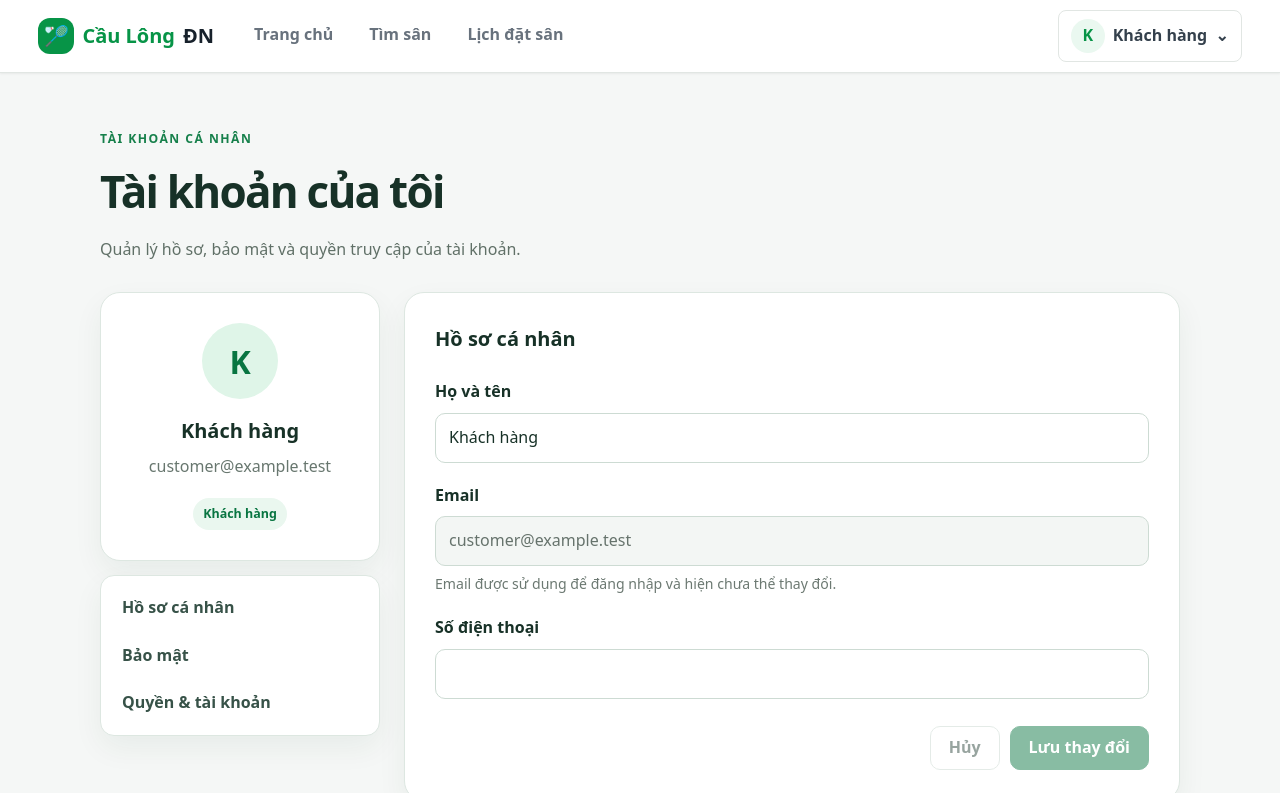
Test: failed authoritative recovery preserves last-known-good snapshot
The image size is (1280, 793).
Replace the text in the field labelled "Họ và tên" with "Unsaved Name". click: [792, 438]
box: [435,413,1149,463]
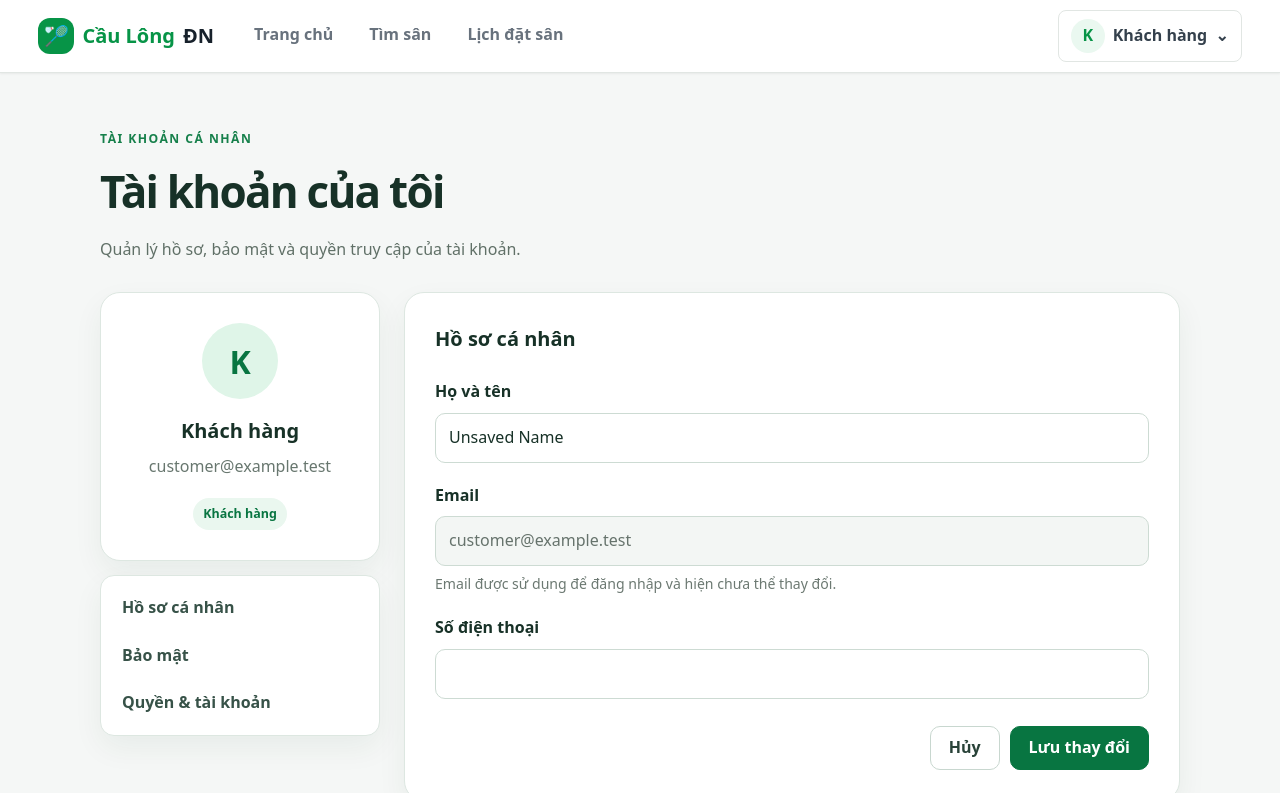
Click the button "Lưu thay đổi". click: [1079, 748]
box: [1010,726,1149,770]
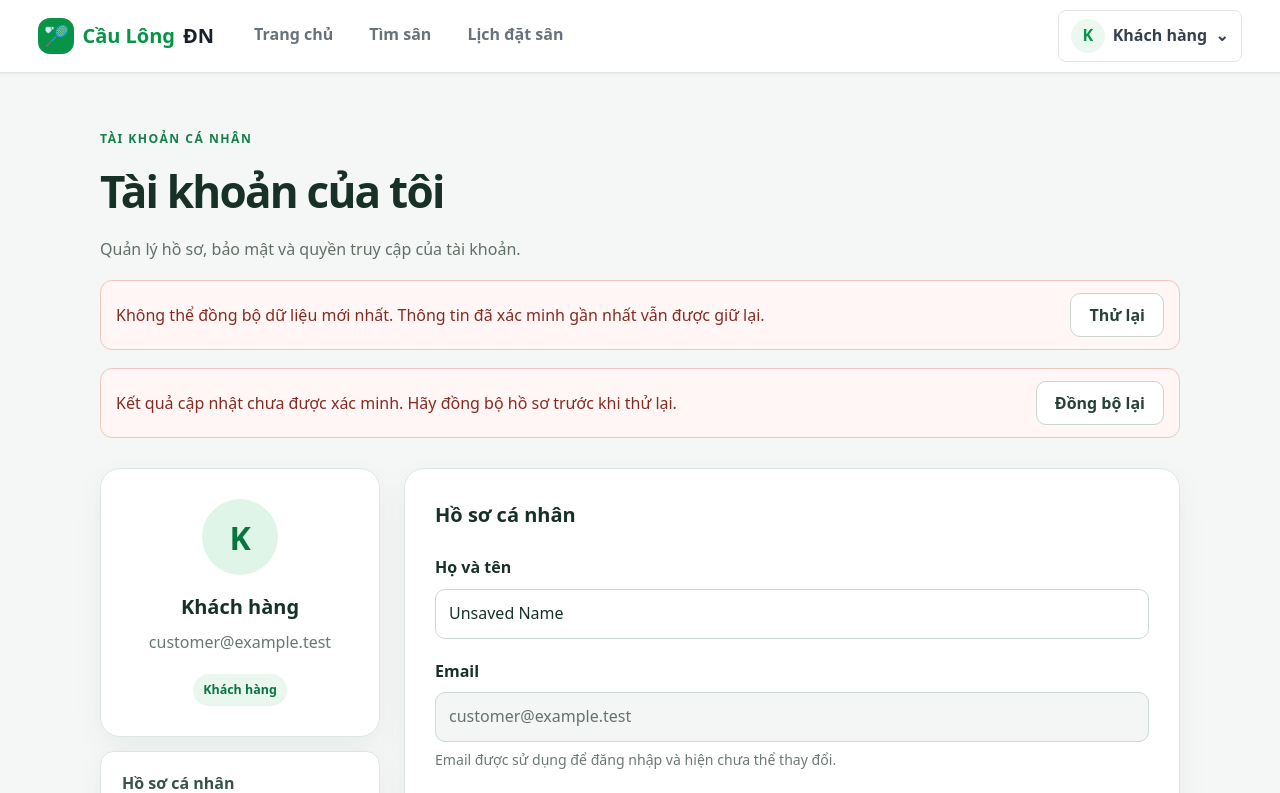
Expected: the text "customer@example.test" is shown, [149,631,331,653]
Result: the text "Kết quả cập nhật chưa được xác minh" is shown at [116,392,677,414]
